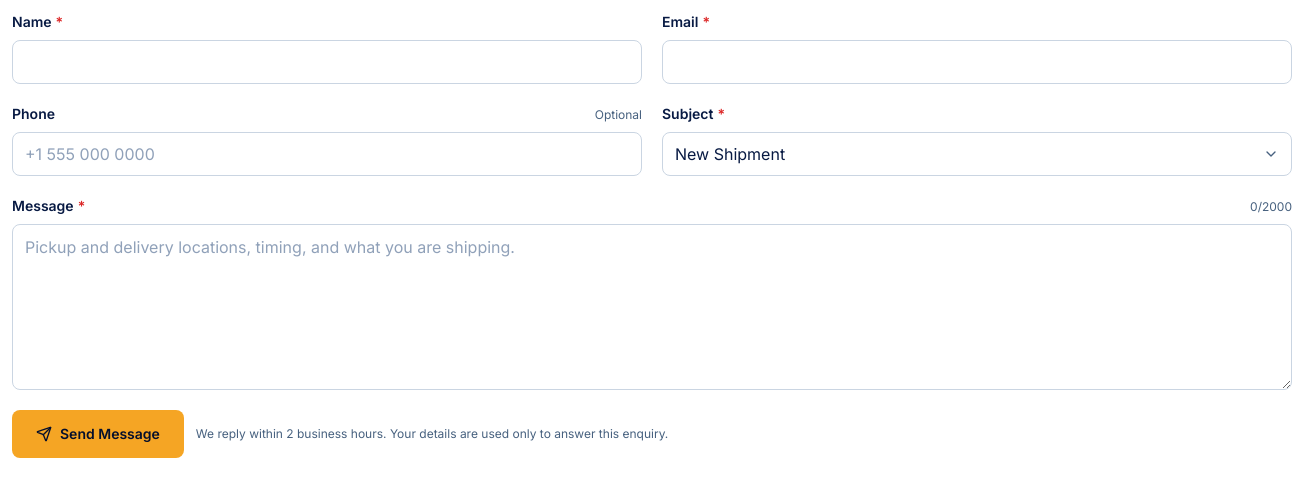
Scenario: ContactForm › rejects a message that is too short
The image size is (1304, 501).
In the field labelled "Name*": (327,62) left=12, top=40, right=642, bottom=84, type "Alex Rivera"
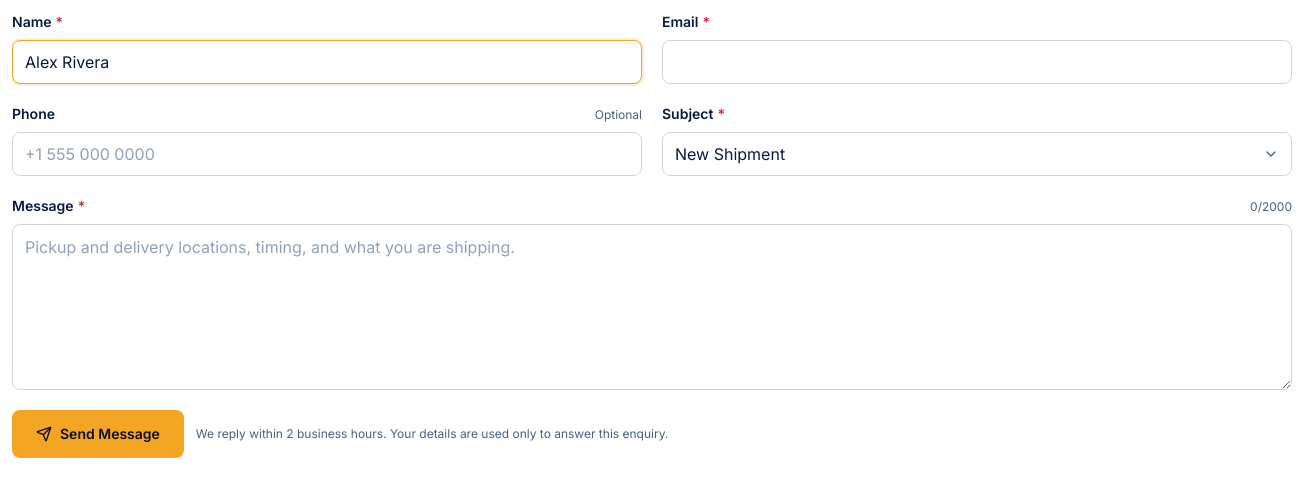
In the field labelled "Email*": (977,62) left=662, top=40, right=1292, bottom=84, type "alex@example.com"
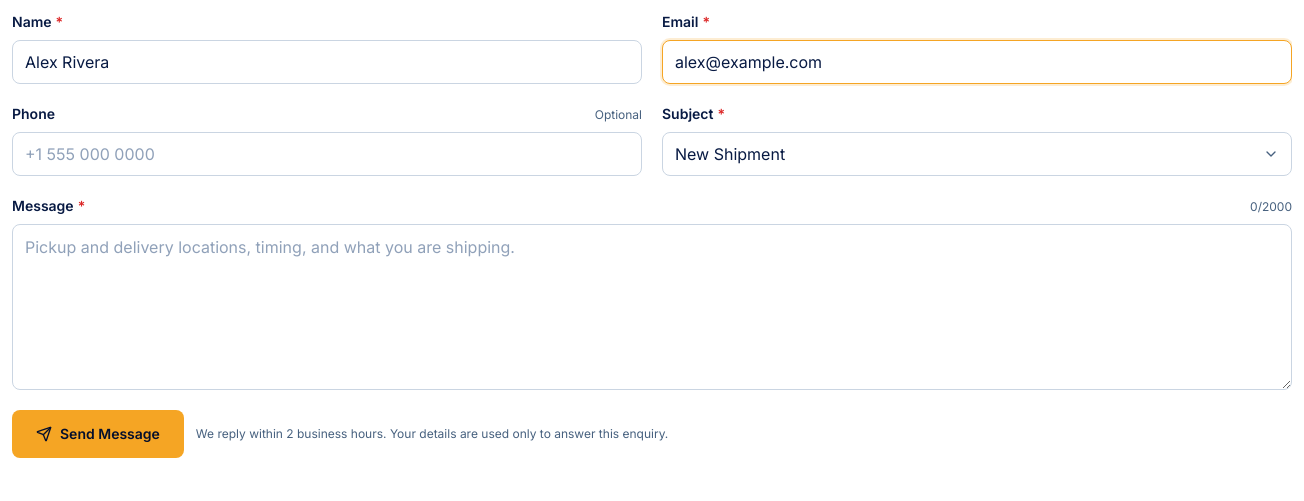
In the text box labelled "Message*": (652,307) left=12, top=224, right=1292, bottom=390, type "hi"
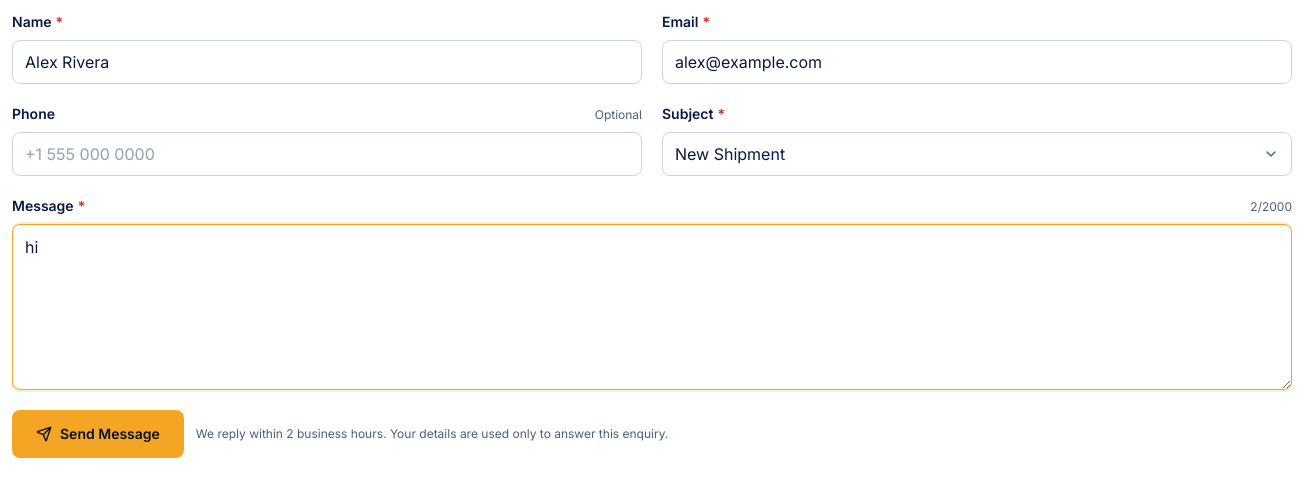
Click the button "Send Message": (98,434) left=12, top=410, right=184, bottom=458
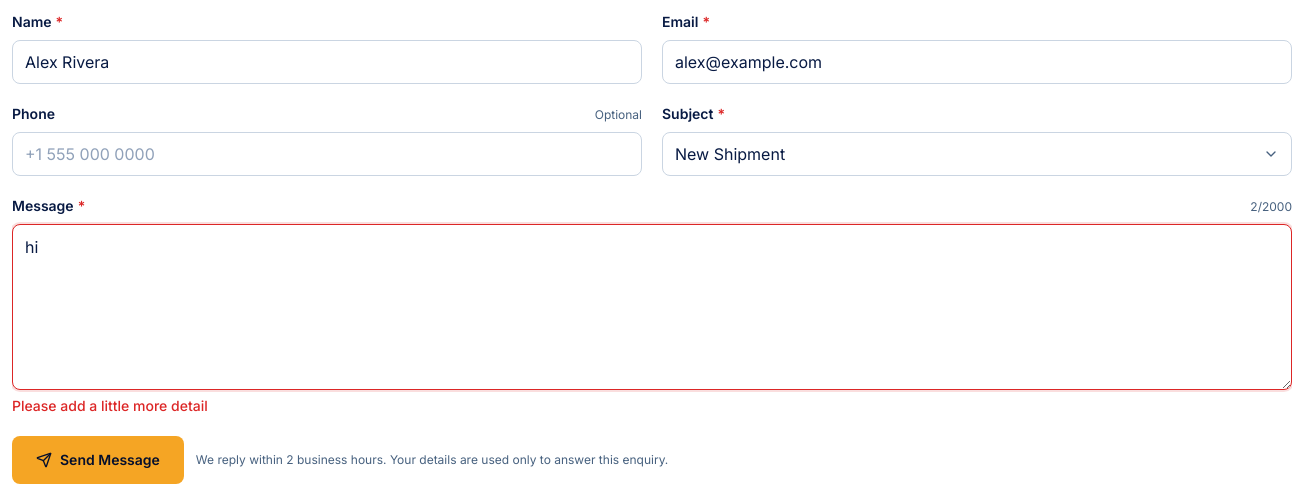
Now the text "Please add a little more detail" is shown, box left=12, top=397, right=208, bottom=414
